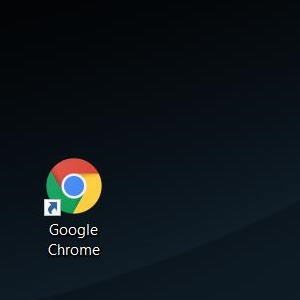chrome: (43, 157, 101, 217)
